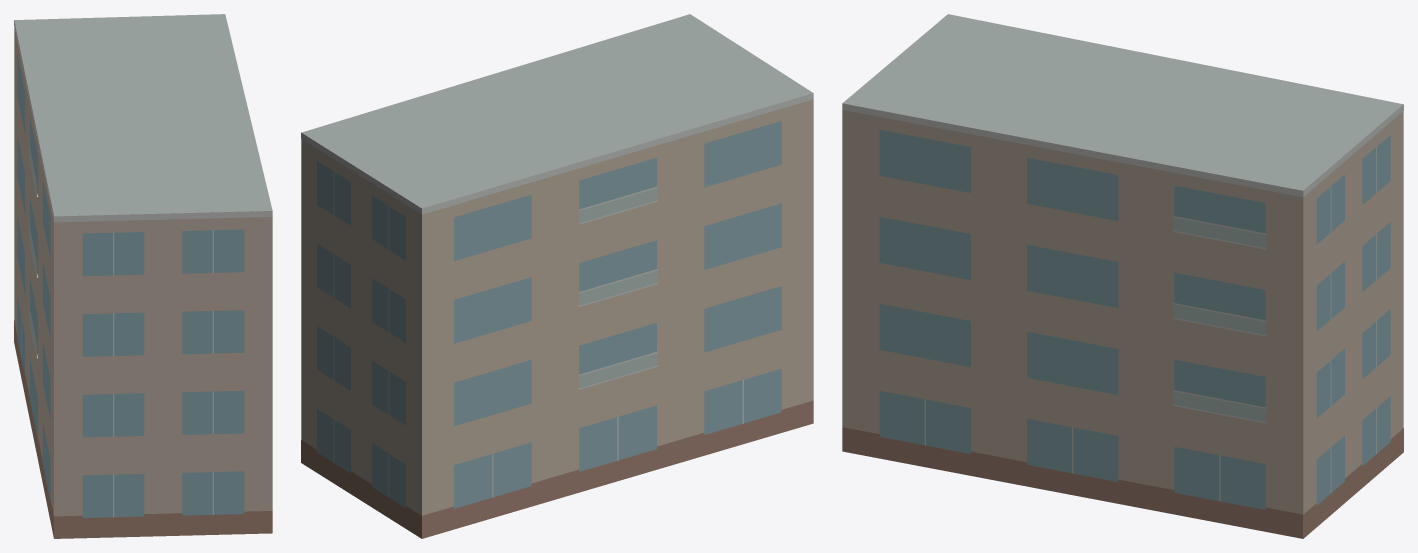
Rendered from survey-upis-32672308.glb.
3 renders of one model, left to right at view 1: azimuth 30°, elevation 25°; view 2: azimuth 150°, elevation 25°; view 3: azimuth 270°, elevation 25°, orthographic. The views are drawn at different scales.
Parts seen in each view (by area): view 1: survey-upis-32672308.tmp; view 2: survey-upis-32672308.tmp; view 3: survey-upis-32672308.tmp.
Part boxes in pixels (left/top/right/bottom): survey-upis-32672308.tmp: left=14, top=14, right=272, bottom=538; survey-upis-32672308.tmp: left=301, top=14, right=813, bottom=538; survey-upis-32672308.tmp: left=842, top=14, right=1403, bottom=538.
Size of the model in its own units: 14.39 by 13.2 by 19.31.
